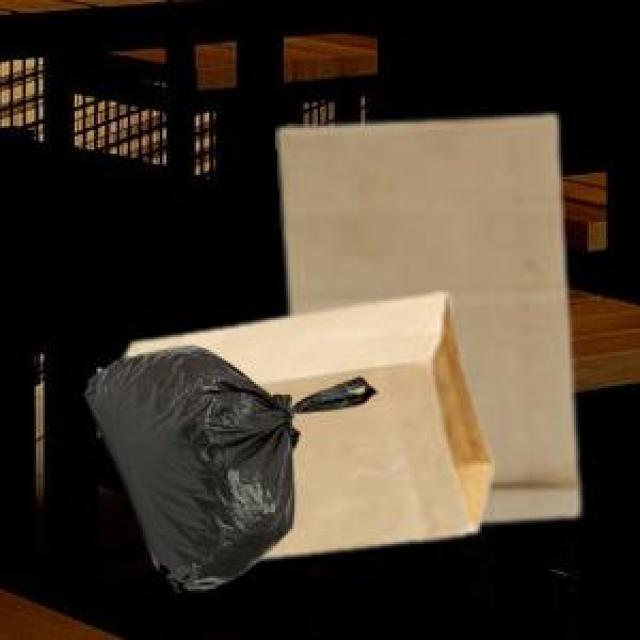miscellaneous trash: (81, 341, 371, 587)
paper: (275, 111, 574, 516), (122, 290, 489, 553)
